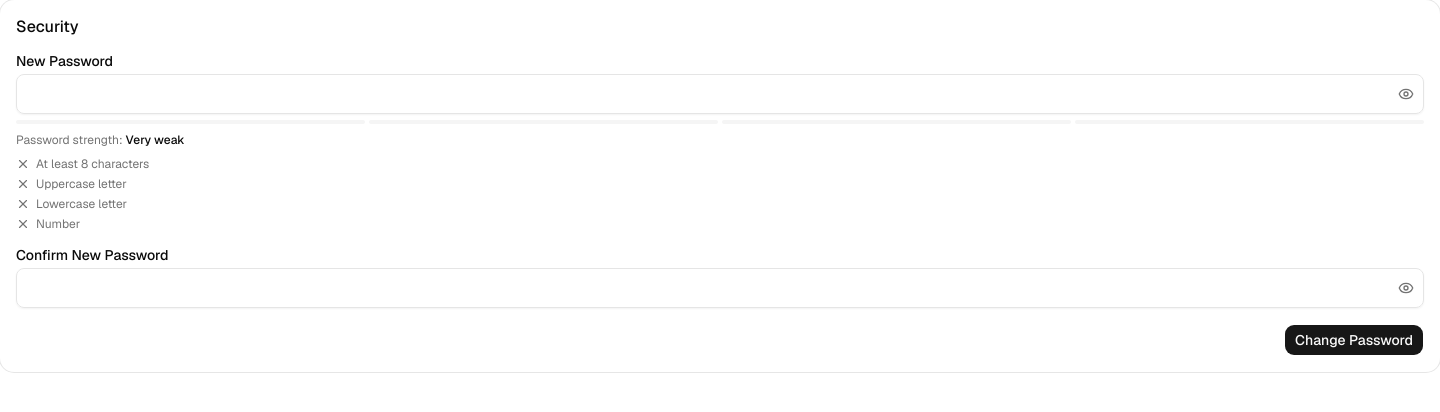
Test: ChangePasswordForm › requires both fields before submitting
The width and height of the screenshot is (1440, 412).
Click the button "Change Password" at {"x": 1354, "y": 340}, box left=1284, top=324, right=1424, bottom=356
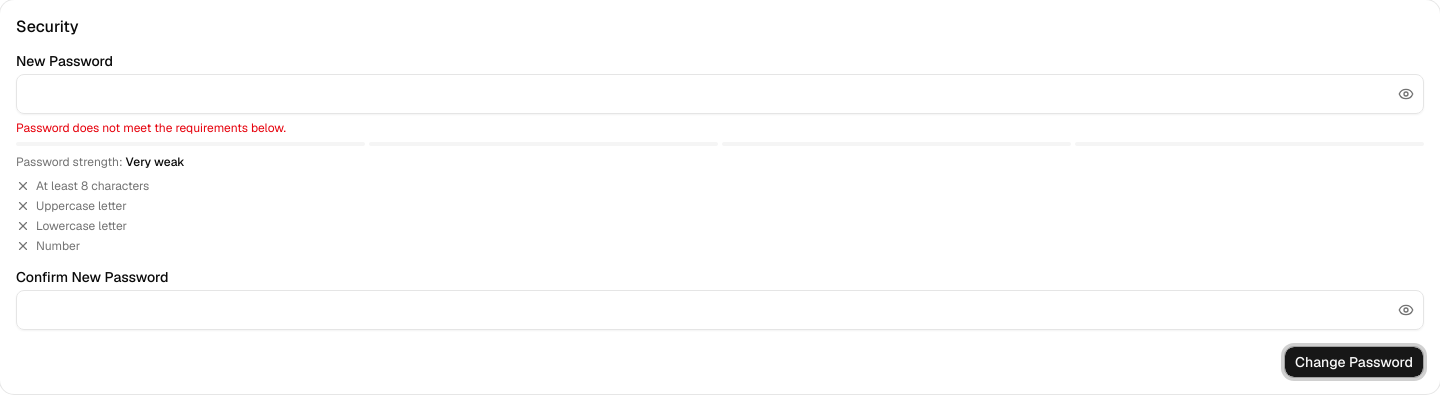
expect the text "Password does not meet the requirements below." is shown: met, box left=16, top=120, right=286, bottom=136
